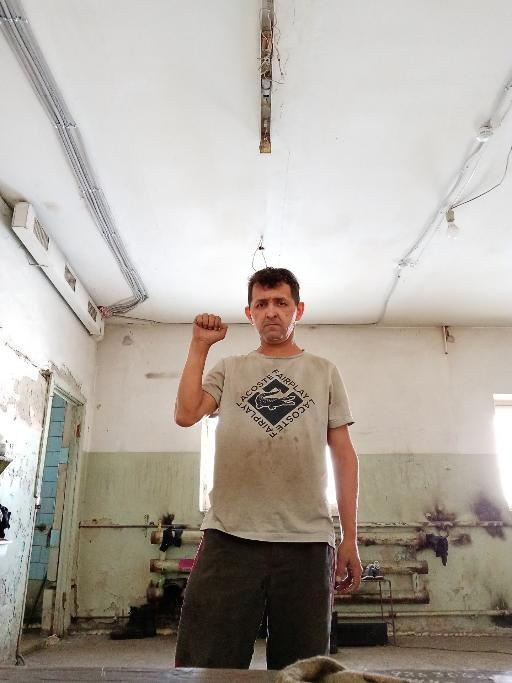fist: (190, 309, 228, 345)
no_gesture: (333, 539, 364, 595)
